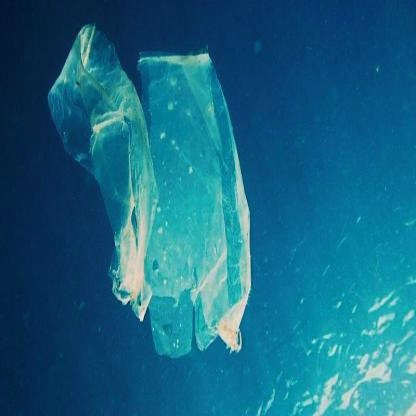pbag: (129, 42, 255, 365), (44, 20, 173, 334)
